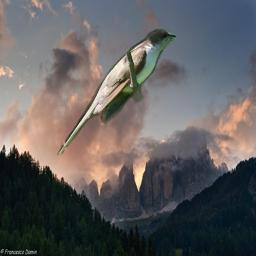Cuckoo: (57, 29, 176, 156)
